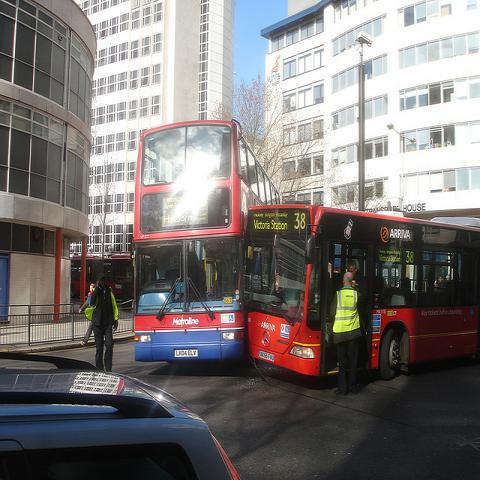bus: (249, 205, 480, 380), (133, 116, 284, 365), (70, 253, 134, 312)
car: (0, 350, 243, 473)
